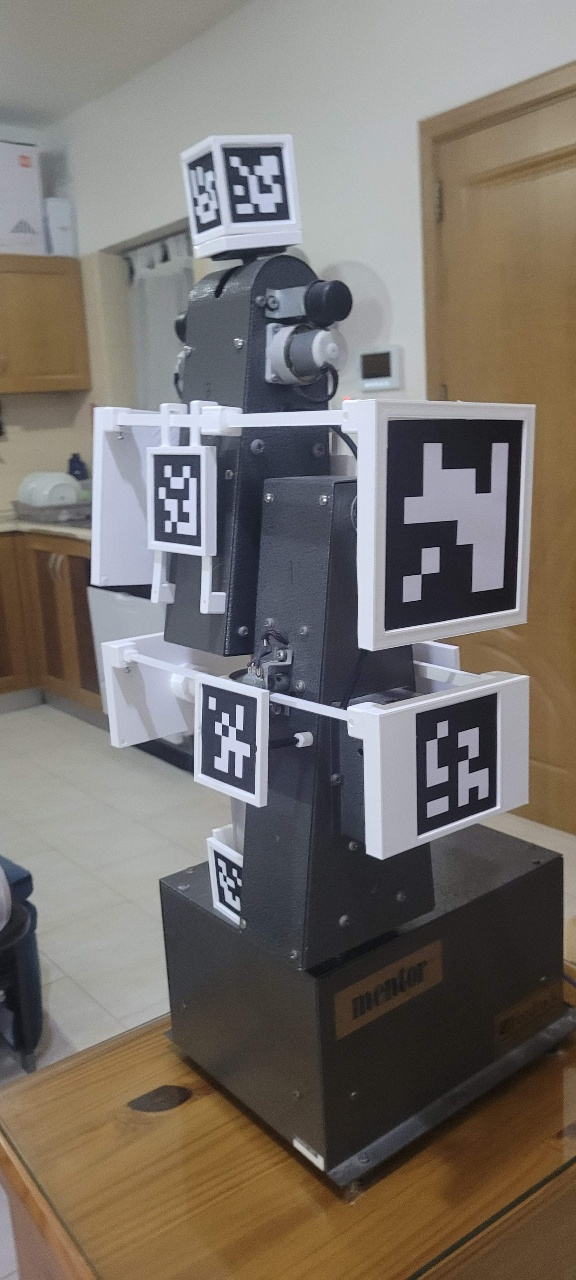Robot: (44, 364, 549, 1089)
